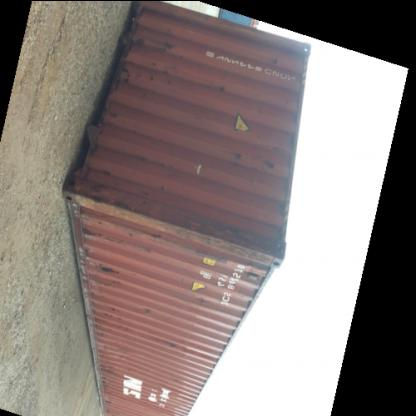Damage: (150, 213, 276, 269), (72, 164, 152, 222), (116, 63, 178, 96), (127, 29, 185, 59), (98, 342, 127, 391), (93, 259, 125, 289), (164, 333, 194, 357), (78, 226, 110, 245), (160, 178, 187, 200), (100, 304, 126, 324), (194, 289, 220, 309), (99, 395, 122, 415), (260, 154, 282, 173), (267, 52, 289, 70), (231, 147, 247, 167), (144, 302, 158, 320), (219, 81, 234, 97)
